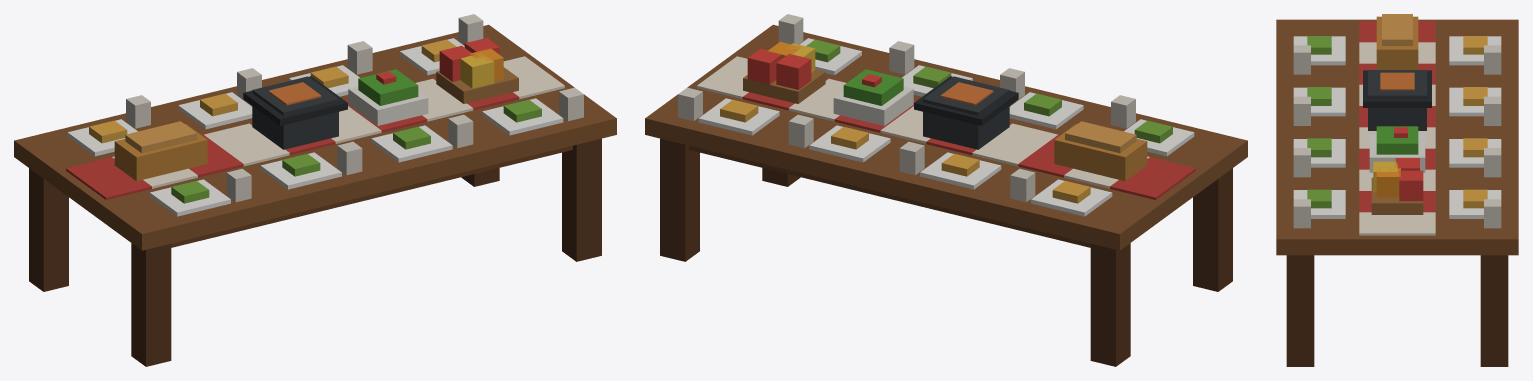
The model's file is xma-dining-table.glb.
The picture shows the model from 3 angles, left to right: view 1: azimuth 30°, elevation 25°; view 2: azimuth 150°, elevation 25°; view 3: azimuth 270°, elevation 25°; orthographic projection. The views are drawn at different scales.
Visible parts, largest first — view 1: box-prop; view 2: box-prop; view 3: box-prop.
Boxes of the visible parts, x1,y1,x2,y2 form: box-prop: (14,14,616,366); box-prop: (645,14,1247,366); box-prop: (1276,14,1518,366).
Bounding box in the file's own units: 3 × 1.09 × 1.4.
